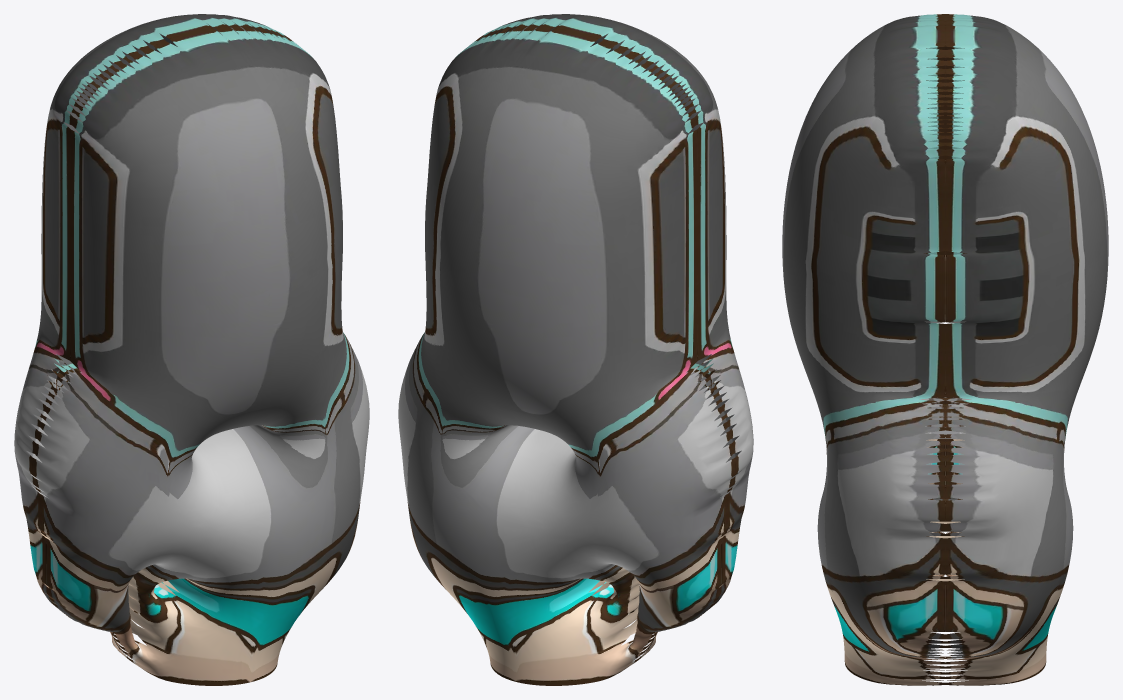
Rendered from sealed_capsule.glb.
The picture shows the model from 3 angles, left to right: view 1: azimuth 30°, elevation 25°; view 2: azimuth 150°, elevation 25°; view 3: azimuth 270°, elevation 25°; orthographic projection.
Visible parts, largest first — view 1: sealed_capsule; view 2: sealed_capsule; view 3: sealed_capsule.
Part boxes in pixels (x1,y1,x2,y2): sealed_capsule: (14,14,369,685); sealed_capsule: (398,14,753,685); sealed_capsule: (782,14,1108,685).
Size of the model in its own units: 0.9797 by 1.81 by 0.8633.
Materials: 1 (1 with a texture image).
